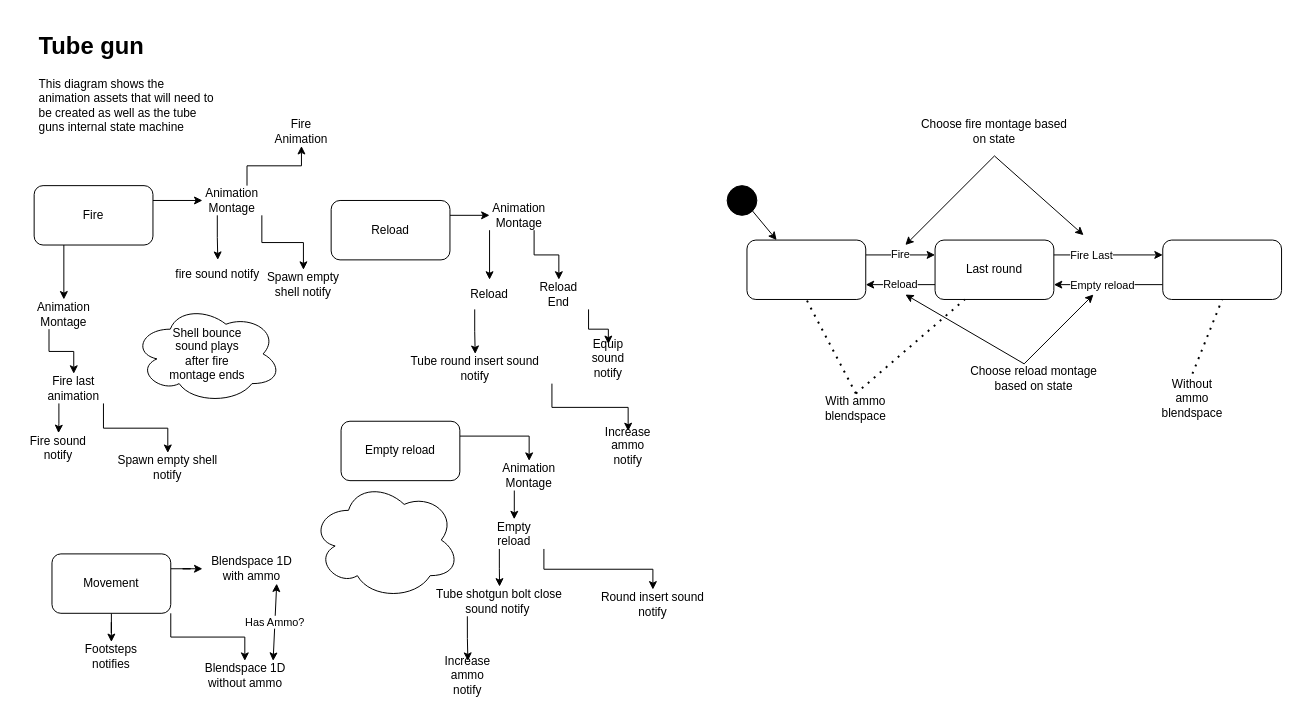
Image size: 1300x714. Some labels were removed from this diagram. Each missing label, with the centre of its shape:
"Auto play normal reload montage after empty montage completes" belongs at [385,539].
"Empty" belongs at [1222,269].
"Has Ammo" belongs at [806,269].
